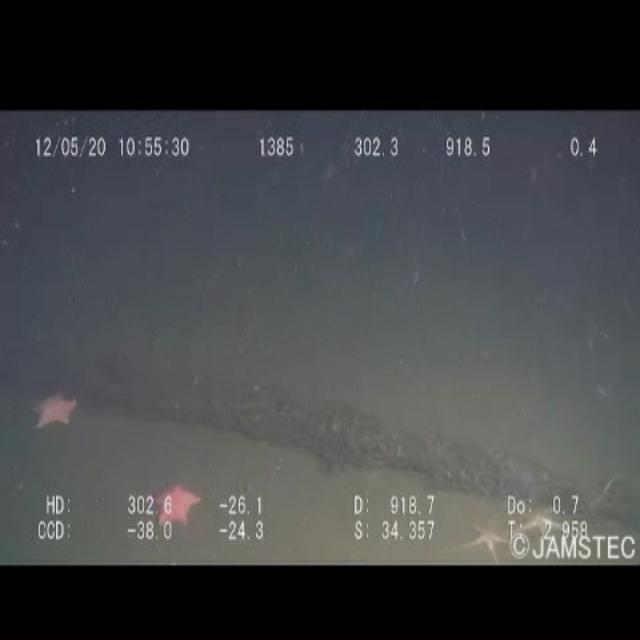Rope: (0, 347, 640, 559)
